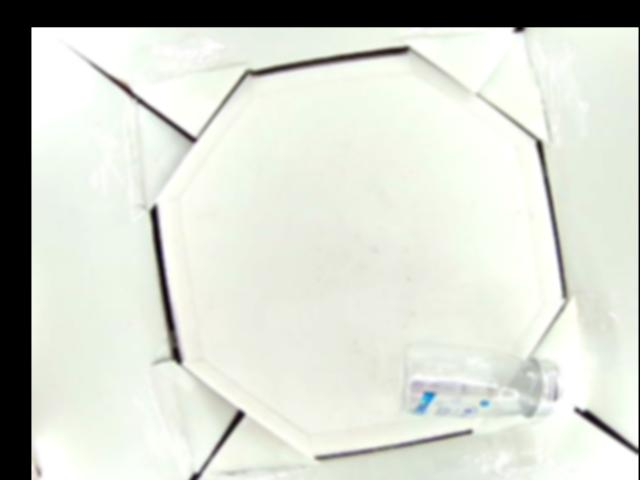Bottle: (400, 343, 566, 421)
